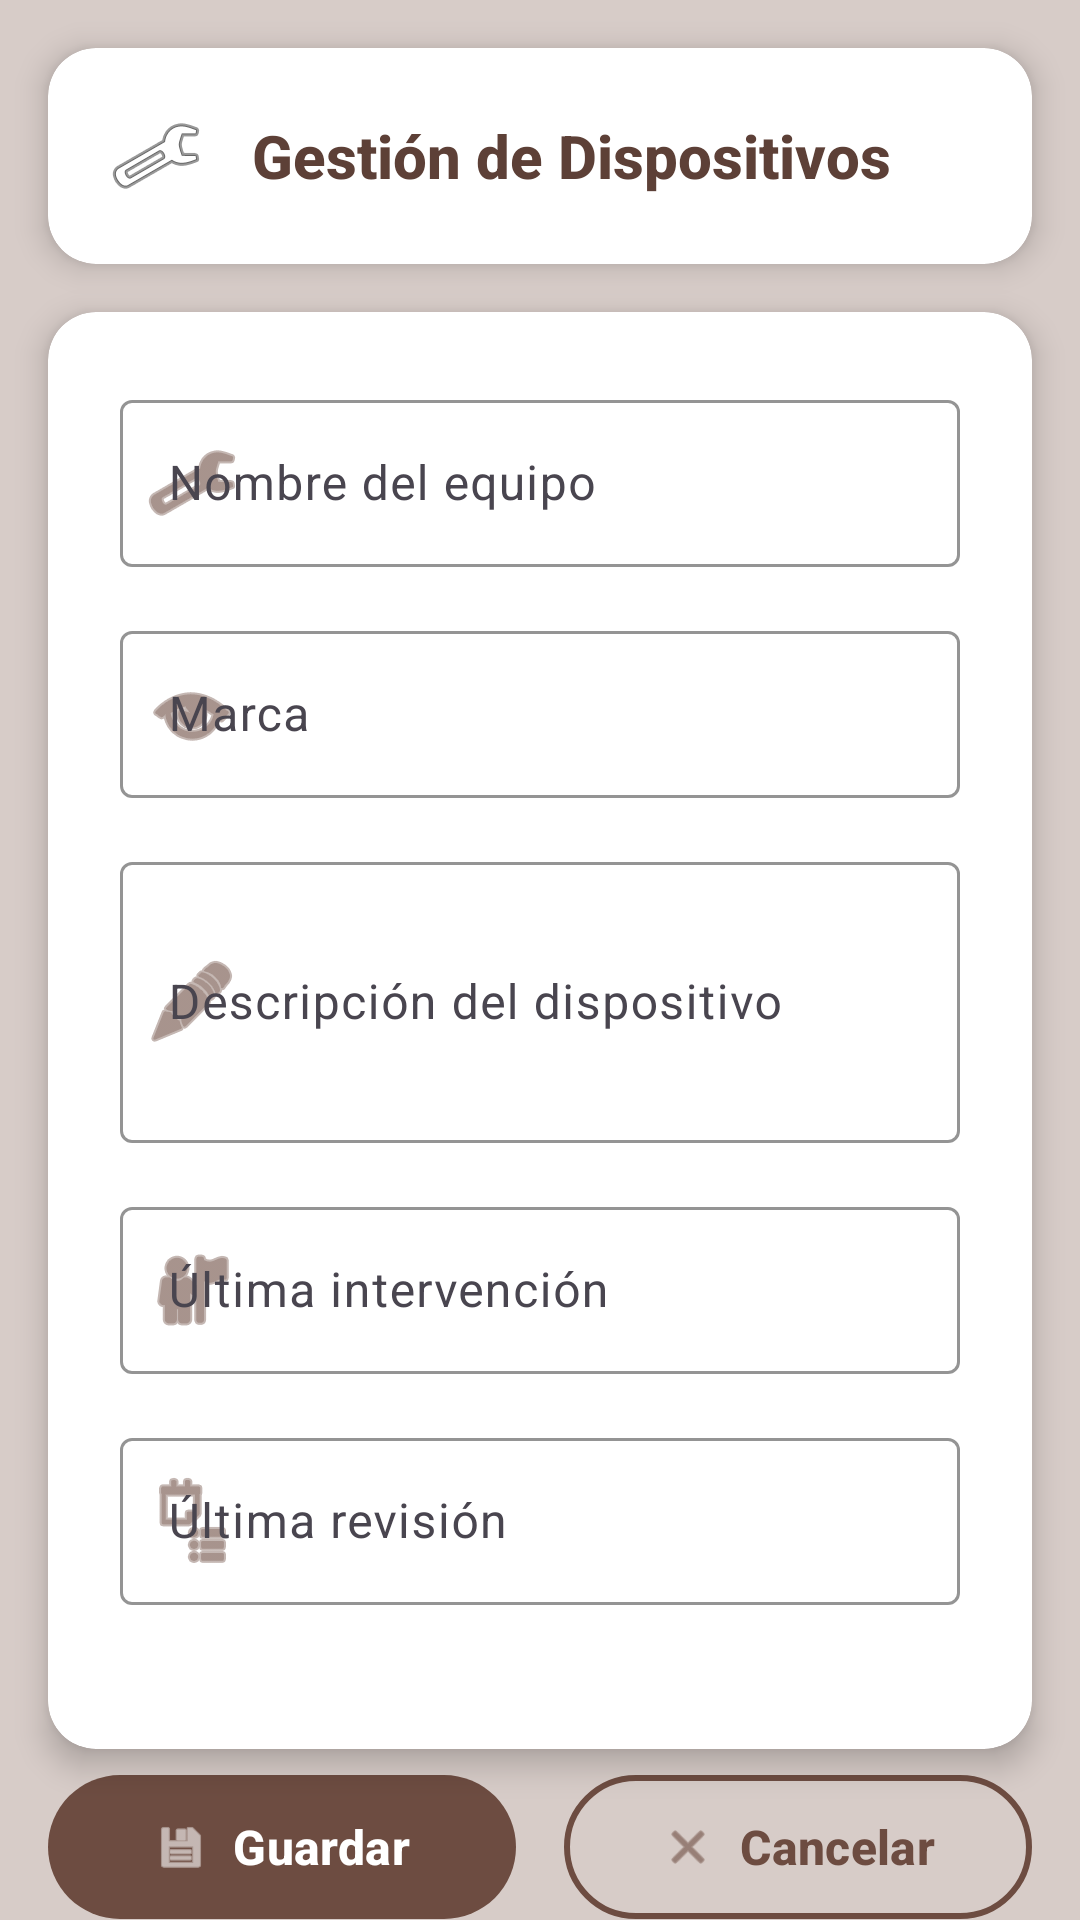

Named icons in this screenshot (1080x1920) and their bounding boxes, (x1, y1, x2, y2):
manage: (113, 123, 199, 189)
